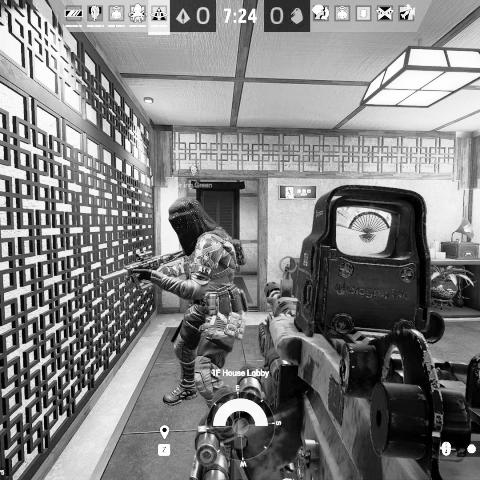Character: (115, 193, 249, 428)
Friend_label: (175, 164, 214, 189)
Head: (166, 196, 206, 244)
